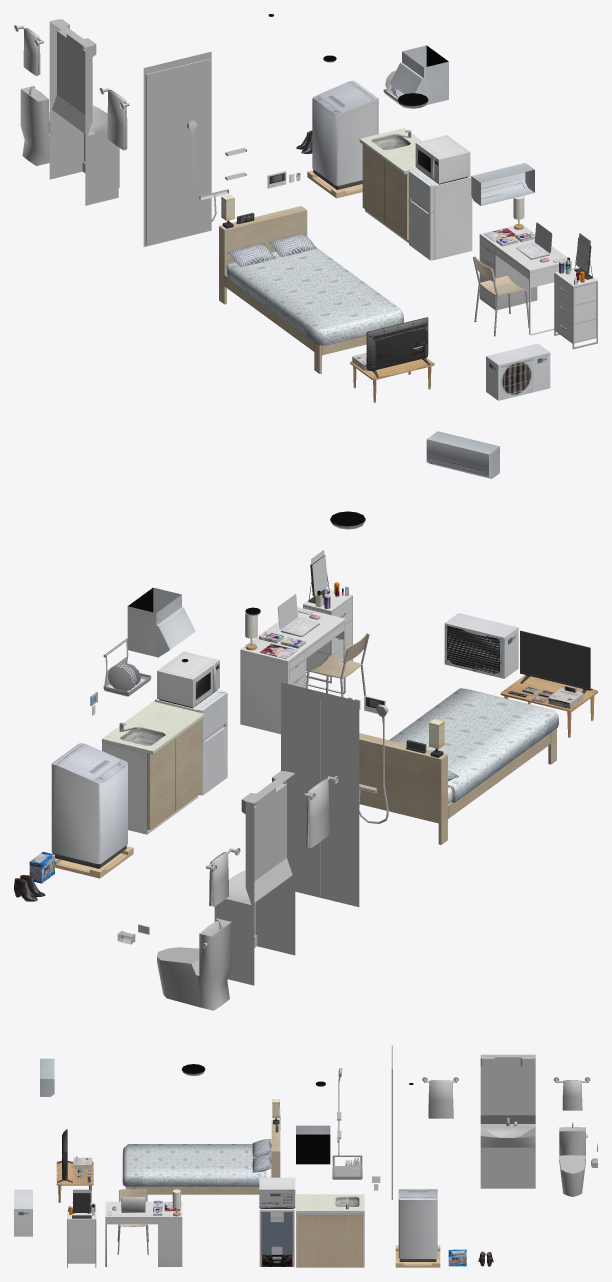
Rendered from apartment objects.fbx.
3 views of the same model, one above another, from view 1: azimuth 30°, elevation 25°; view 2: azimuth 150°, elevation 25°; view 3: azimuth 270°, elevation 25° (orthographic). The views are drawn at different scales.
Visible parts, largest first — view 1: bed, sink, shower-door.001, laundry, shower-door, fridge, kitchen counter, desk, AC box, drawers, TV, range hood (+10 smaller); view 2: bed, sink, kitchen counter, laundry, shower-door.001, desk, shower-door, toilet, AC box, range hood, TV, microwave (+9 smaller); view 3: bed, sink, kitchen counter, laundry, desk, fridge, toilet, drawers, range hood, microwave, towel, AC box (+10 smaller).
Part boxes in pixels (x1,y1,x2,y2): bed: (219,206,403,373); sink: (49,19,119,205); shower-door.001: (145,66,178,245); laundry: (312,80,378,189); shower-door: (178,58,210,237); fridge: (409,168,472,260); kitchen counter: (359,128,421,242); desk: (479,225,571,335); AC box: (486,343,550,400); drawers: (554,266,597,349); TV: (366,317,430,377); range hood: (390,45,448,105); bed: (359,688,558,844); sink: (214,771,295,985); kitchen counter: (102,701,204,834); laundry: (51,743,127,868); shower-door.001: (320,699,356,904); desk: (240,607,345,734); shower-door: (283,690,320,895); toilet: (157,918,231,1010); AC box: (444,613,518,678); range hood: (127,587,195,657); TV: (520,630,592,694); microwave: (157,651,219,708); bed: (122,1120,280,1194); sink: (480,1054,535,1188); kitchen counter: (296,1194,364,1267); laundry: (398,1189,437,1261); desk: (105,1201,182,1266); fridge: (259,1208,294,1266); toilet: (559,1122,587,1196); drawers: (67,1210,96,1267); range hood: (296,1125,330,1164); microwave: (259,1177,295,1208); towel: (428,1080,453,1118); AC box: (14,1189,32,1236).
Bounding box in the file's own units: 294 × 242 × 794.
